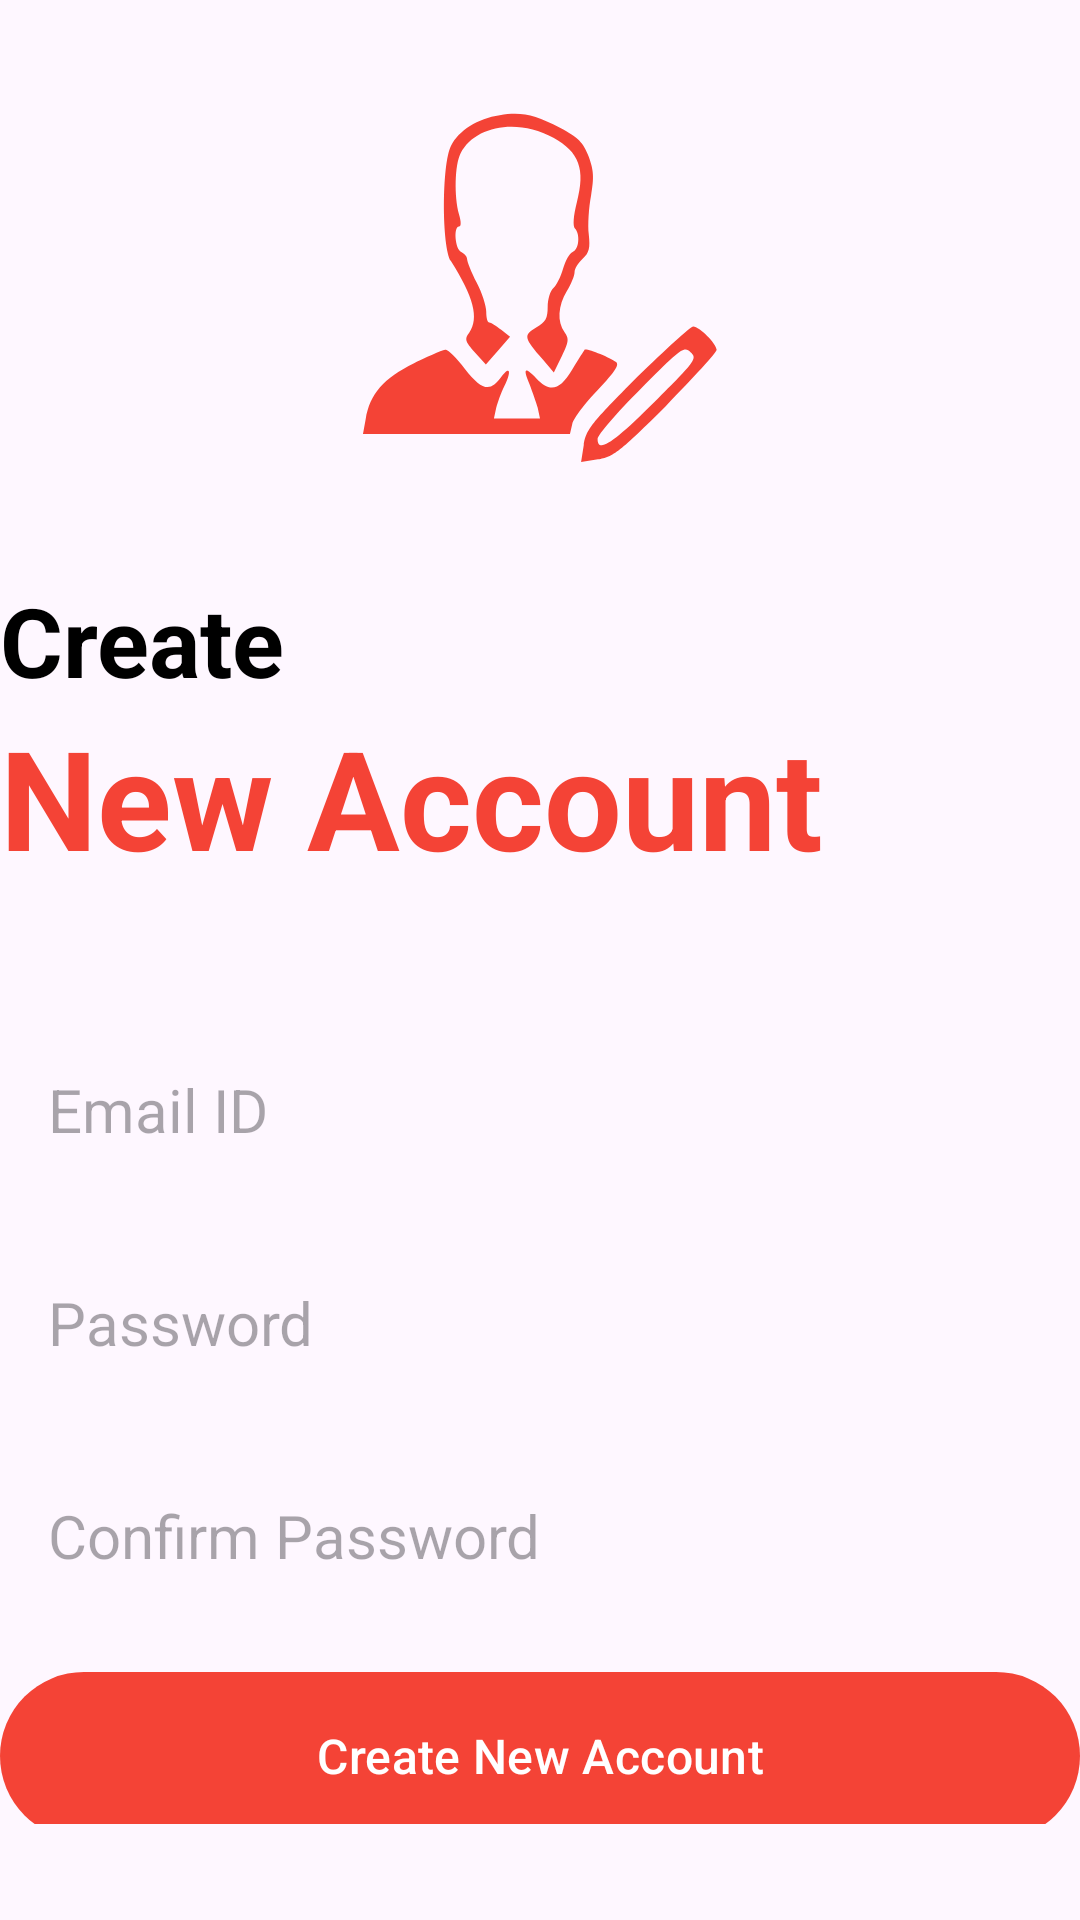

Where icons sit on this 1080px x 1920px app screen, as (x1=x1, y1=y1, x2=x2, y2=y2):
signup: (x1=363, y1=113, x2=717, y2=462)
